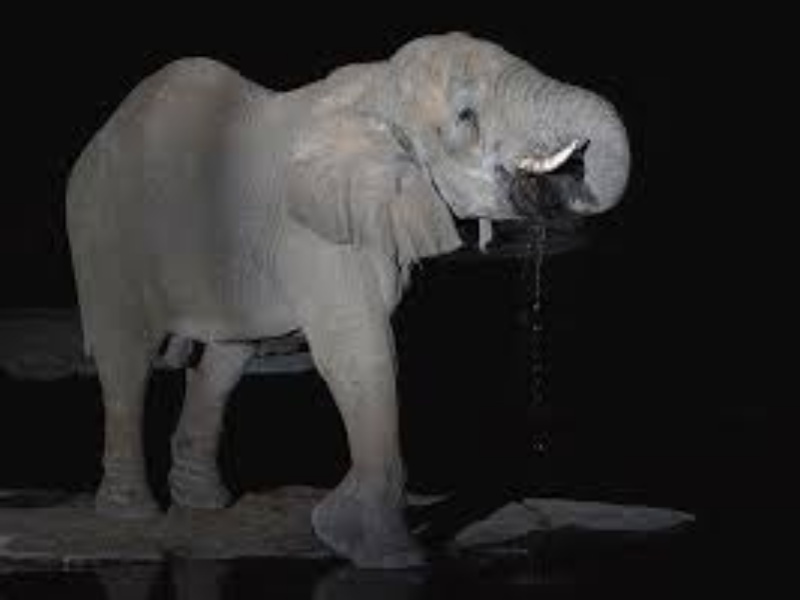elephant: (47, 37, 626, 568)
